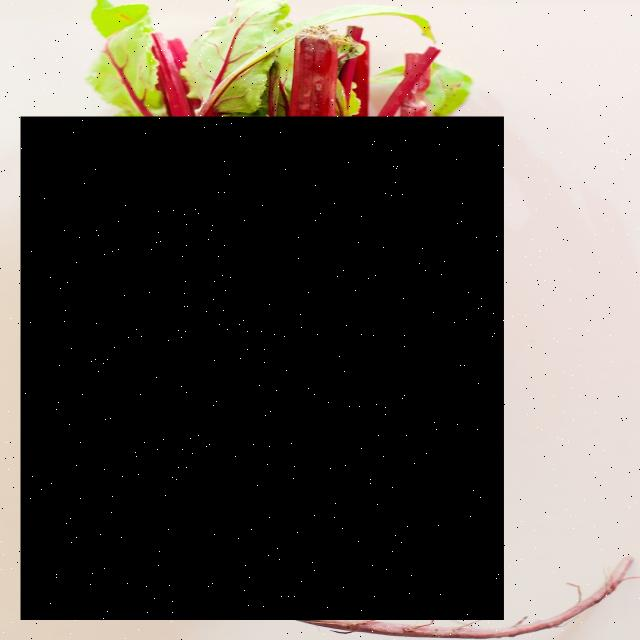Beetroot: (21, 117, 505, 620)
